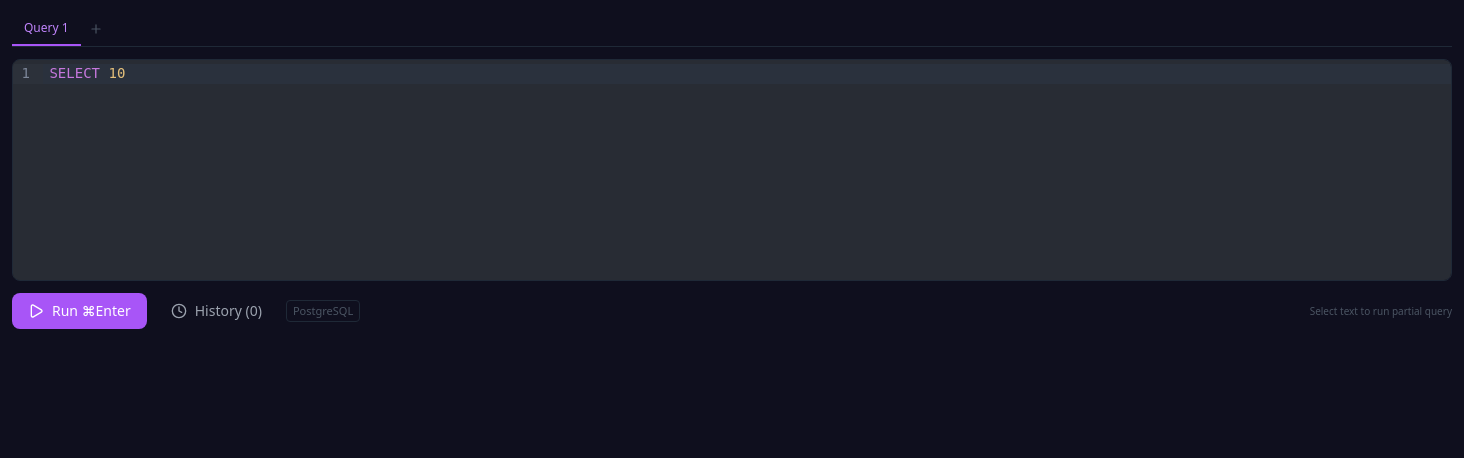
SqlEditorPage › a row JSON cannot serialise still renders
The image size is (1464, 458).
Click the button with test id "run-query-btn" at (79, 311), box [12, 293, 147, 329]
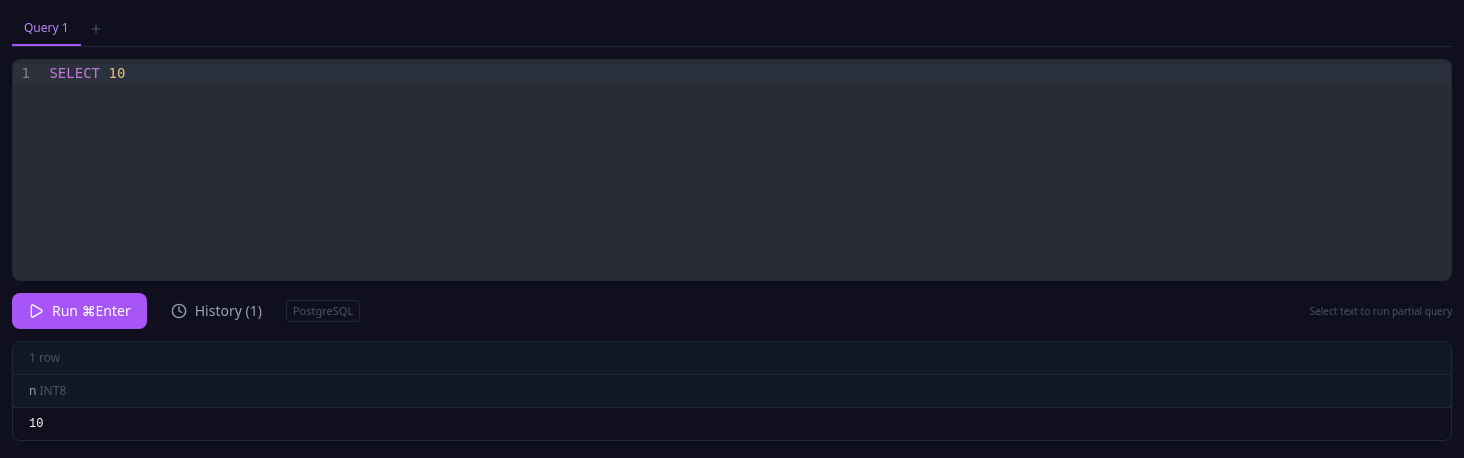
expect the text "1 row" is shown: met, box [13, 342, 1451, 375]
expect the cell "10" is shown: met, box [13, 408, 1451, 440]
